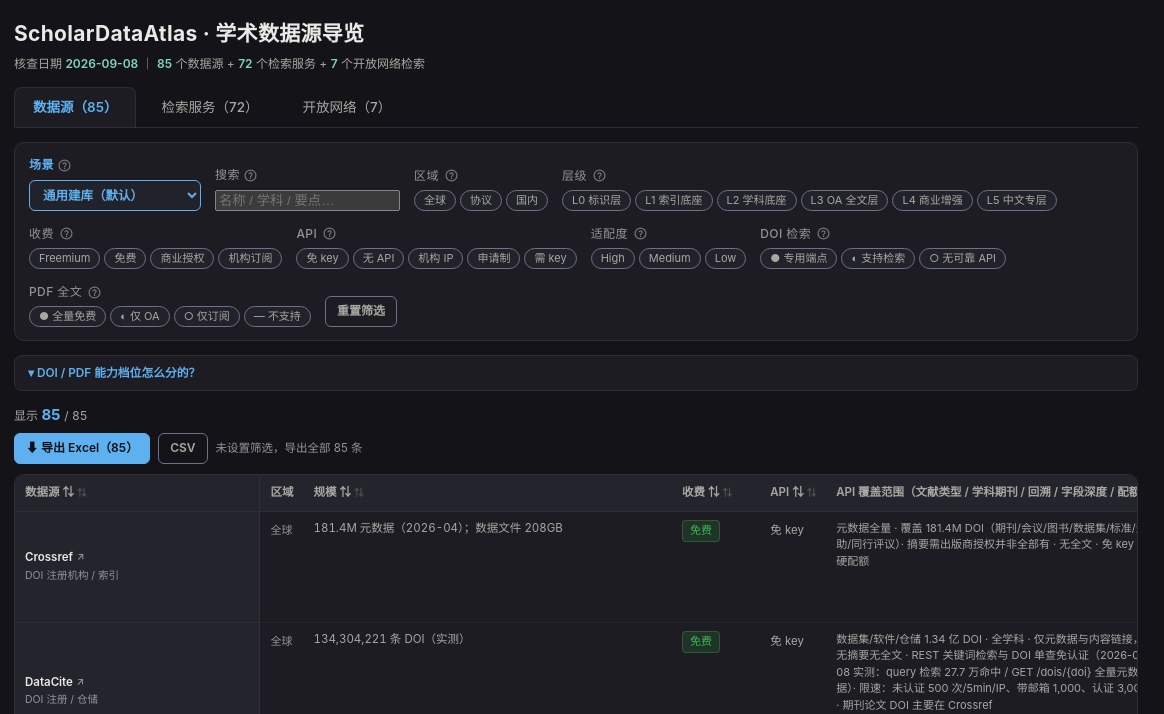
Test: T2.2 场景切换 › 切到「芯片 / 半导体」后只剩 72 行（85 - 13 他领域）并显示隐藏计数
Step 1. Select "⑤ 芯片 / 半导体" in the dropdown labelled "场景" → {"x": 115, "y": 195}, box x1=29 y1=180 x2=201 y2=211
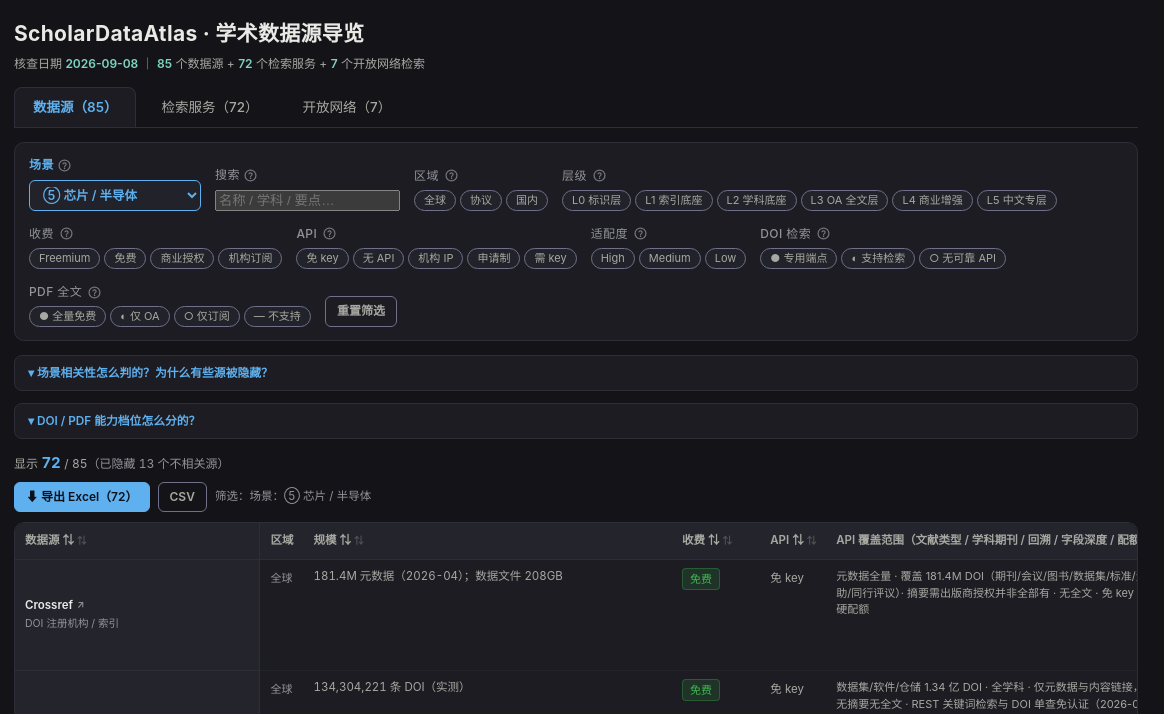
Result: the text with class "hidn" shows "已隐藏 13" at x1=87 y1=456 x2=229 y2=471
